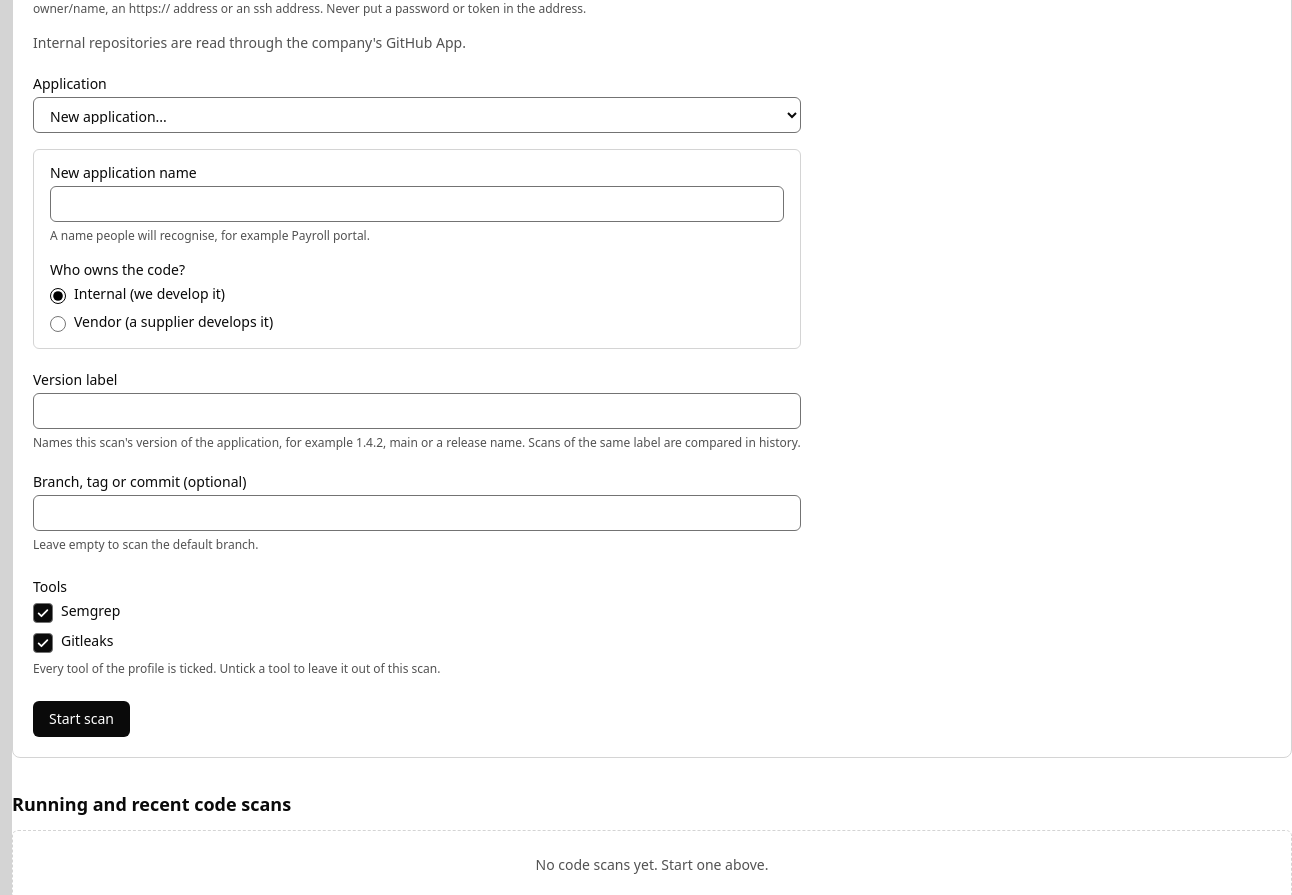
Test: SastPage › names what is missing and sends nothing
The width and height of the screenshot is (1292, 895).
(page scrolled)
Click the button "Start scan" at (82, 719), box x1=33 y1=701 x2=130 y2=737
(page scrolled)
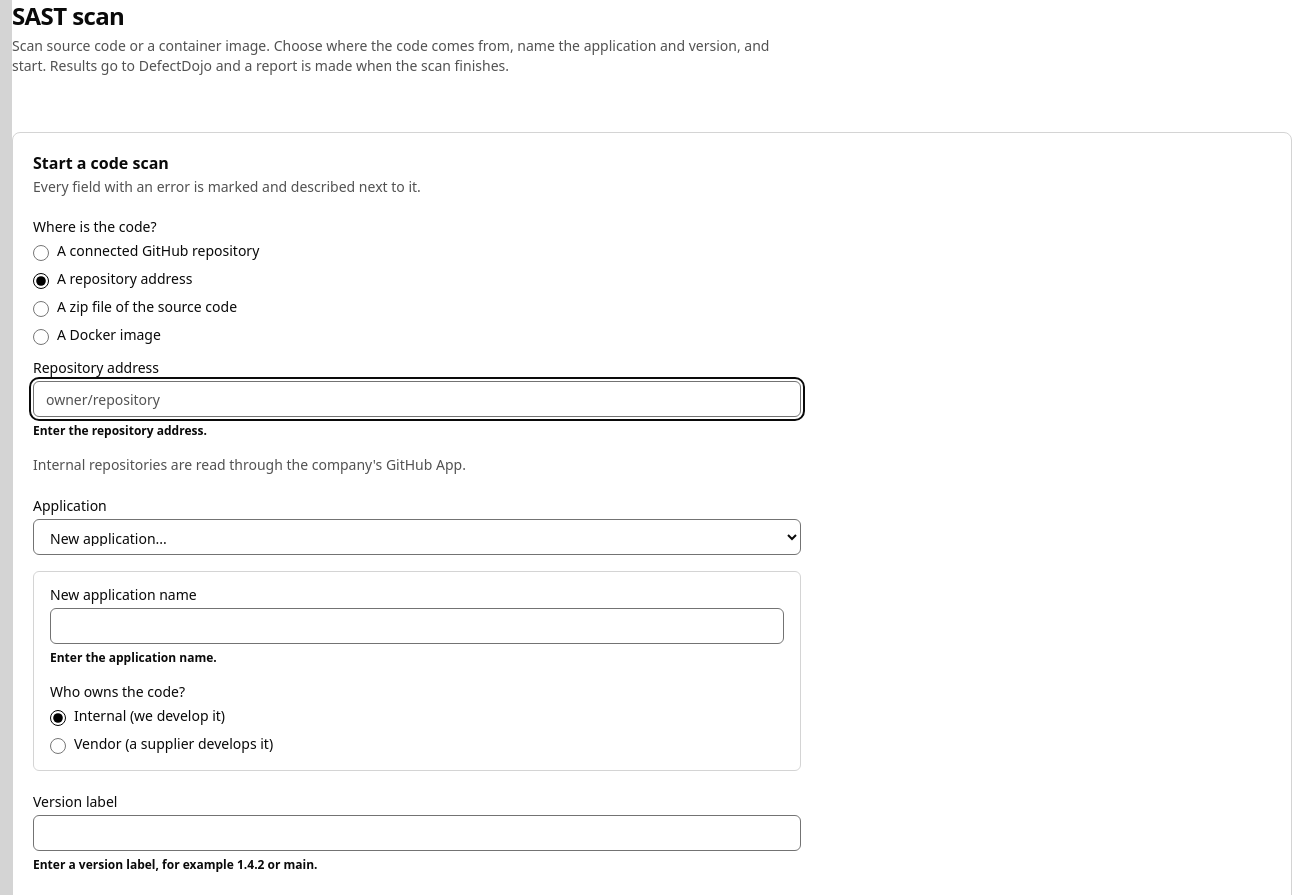
Expected: the text "Enter the repository address." is shown, x1=33 y1=422 x2=207 y2=439
Expected: the text "Enter the application name." is shown, x1=50 y1=649 x2=217 y2=666
Expected: the text "Enter a version label, for example 1.4.2 or main." is shown, x1=33 y1=856 x2=318 y2=873
